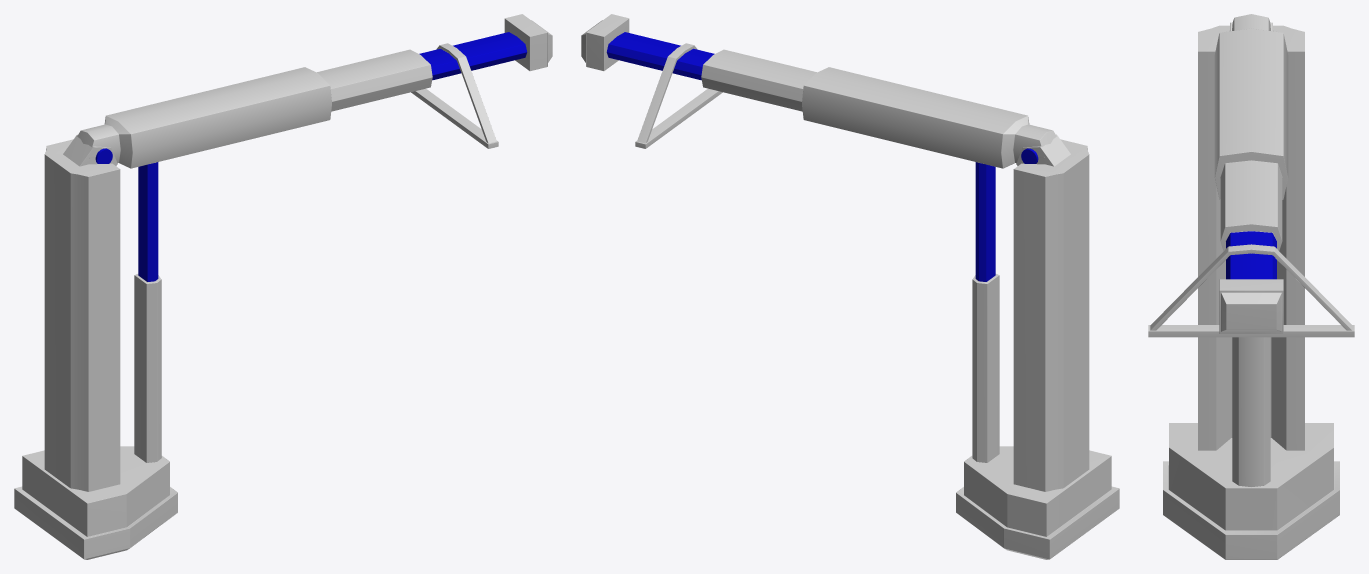
Rendered from SM_ExperimentHolder_CraneOnly.fbx.
The picture shows the model from 3 angles, left to right: view 1: azimuth 30°, elevation 25°; view 2: azimuth 150°, elevation 25°; view 3: azimuth 270°, elevation 25°; orthographic projection. The views are drawn at different scales.
Parts seen in each view (by area): view 1: Crane, HolderTriangle; view 2: Crane, HolderTriangle; view 3: Crane, HolderTriangle.
Boxes of the visible parts, x1,y1,x2,y2 form: Crane: (14, 14, 552, 559); HolderTriangle: (411, 43, 498, 148); Crane: (581, 14, 1119, 559); HolderTriangle: (635, 43, 722, 148); Crane: (1163, 14, 1339, 559); HolderTriangle: (1148, 244, 1354, 337).
Size of the model in its own units: 306 by 87.43 by 236.
